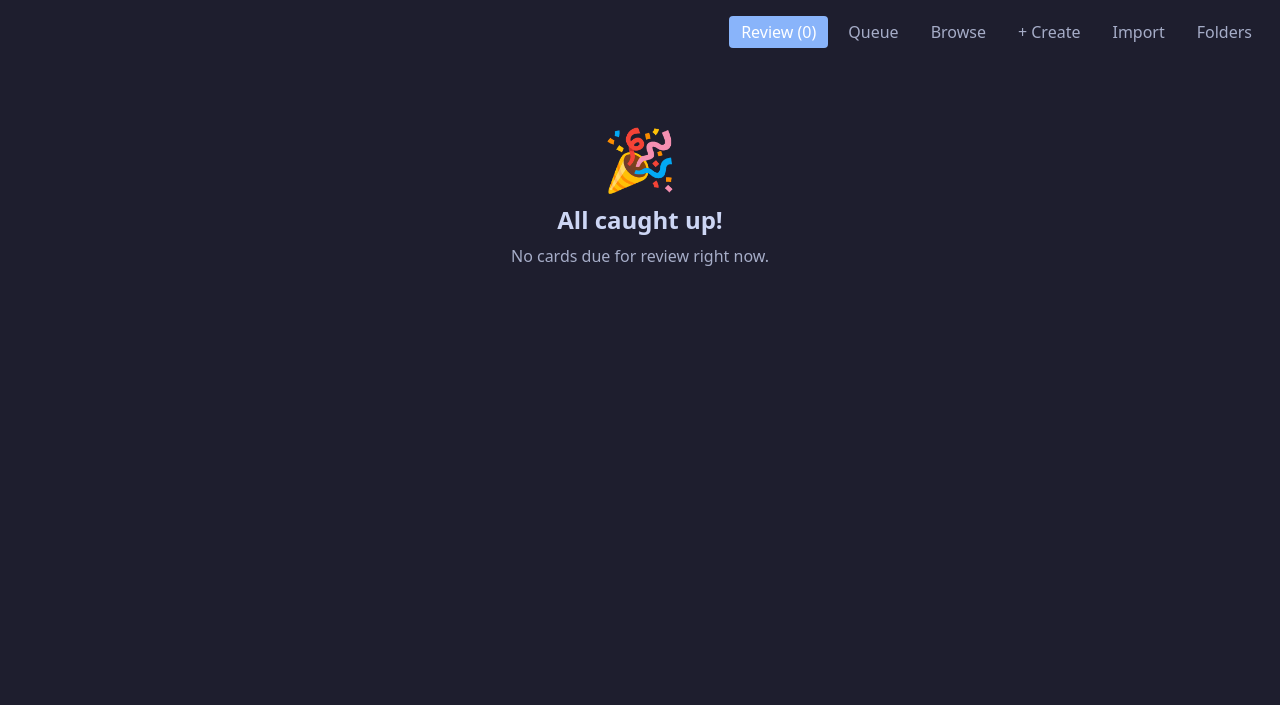
it: Learning › switches between modes
What coordinates should you click on to do the following:
click the button "Browse"
I would click on:
 (958, 32)
Its box is [919, 16, 998, 48].
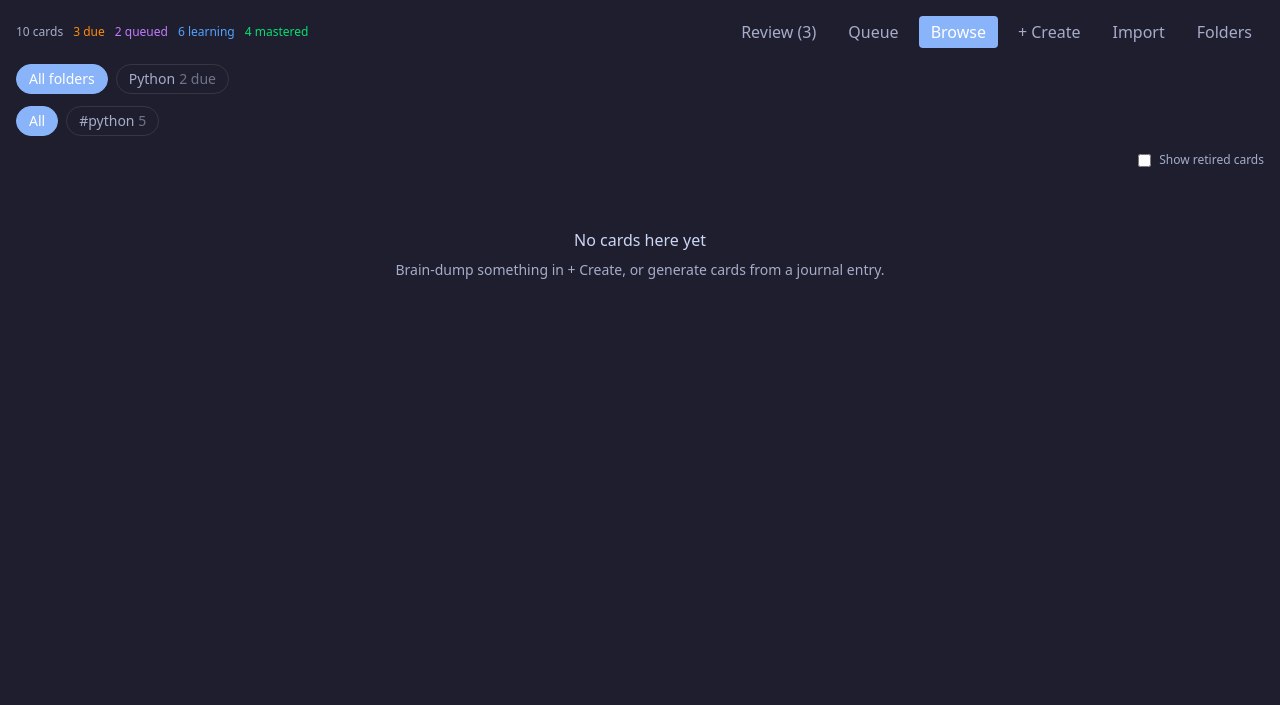
Expected: the text "No cards here yet" is shown, [574, 229, 706, 251]
What coordinates should you click on to do the following:
click the button "Queue"
I would click on:
 (873, 32)
Its box is [836, 16, 911, 48].
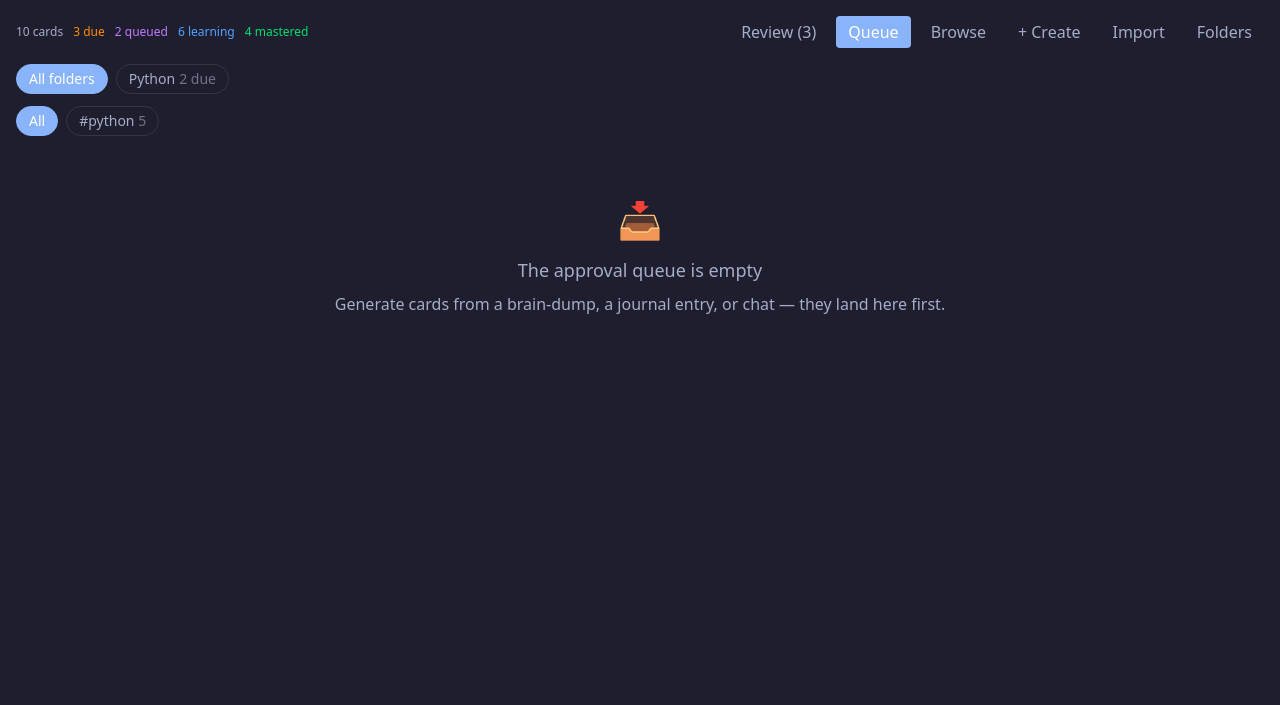
Expected: the text "The approval queue is empty" is shown, [518, 258, 762, 282]
What coordinates should you click on to do the following:
click the button "+ Create"
I would click on:
 (1049, 32)
Its box is [1006, 16, 1092, 48].
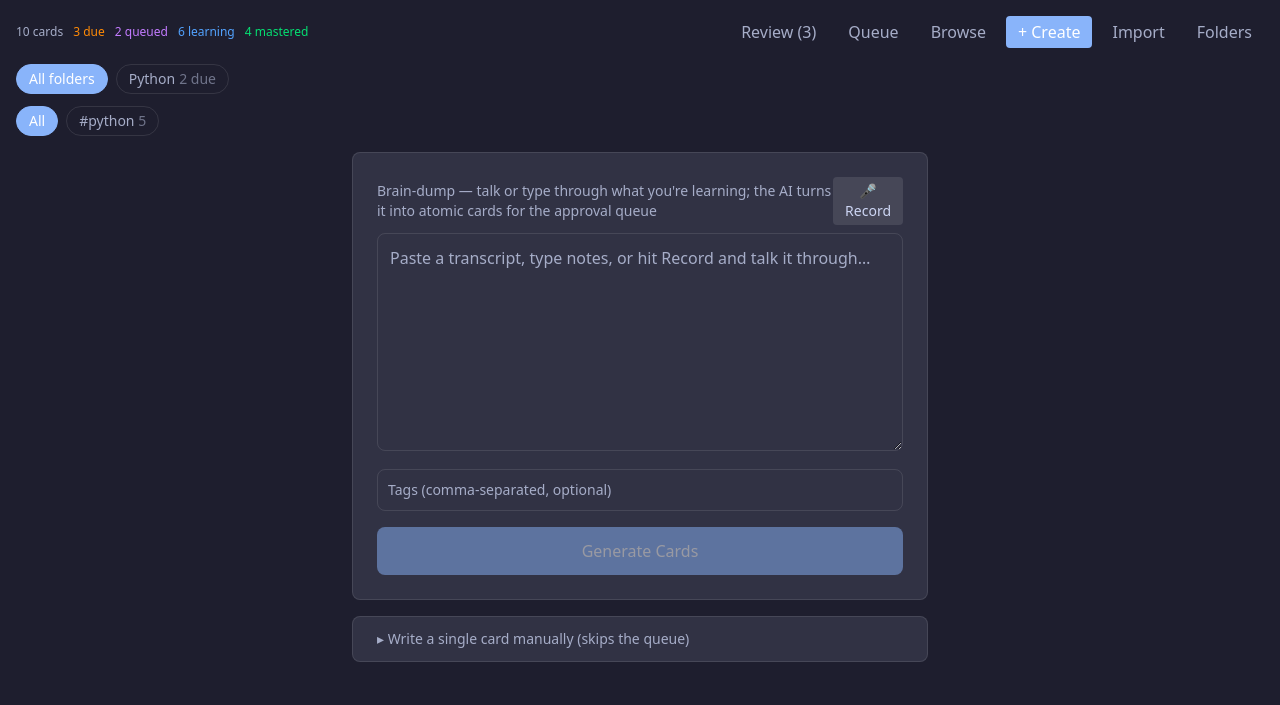
Expected: the button "Generate Cards" is shown, [377, 527, 903, 575]
What coordinates should you click on to do the following:
click the button "Import"
I would click on:
 (1139, 32)
Its box is [1100, 16, 1177, 48].
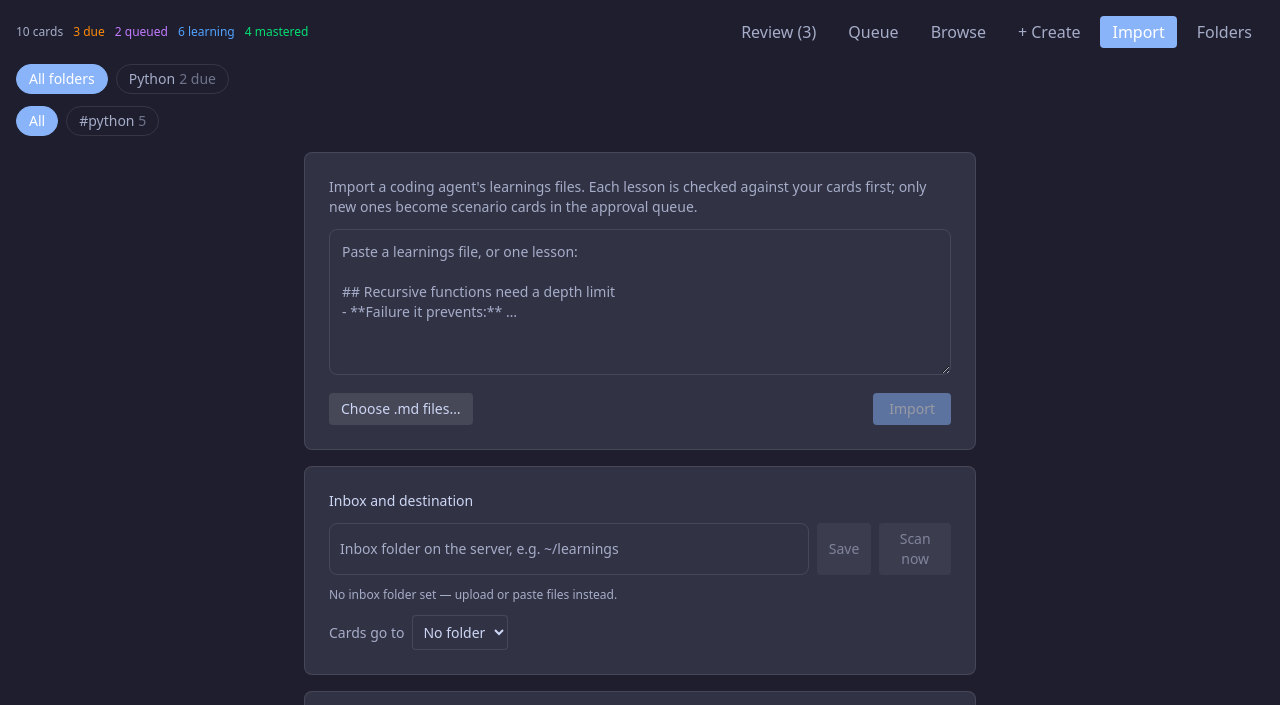
What coordinates should you click on to do the following:
click the button "Folders"
I would click on:
 (1224, 32)
Its box is [1185, 16, 1264, 48].
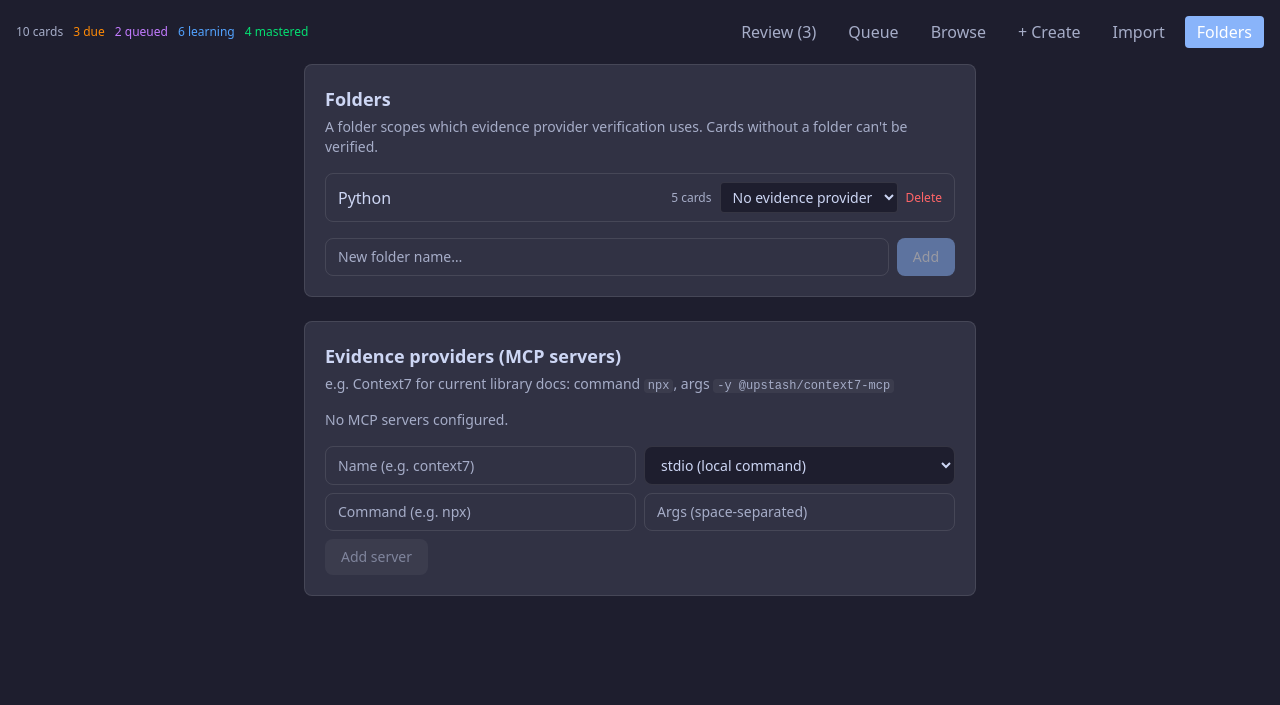
Expected: the heading "Evidence providers (MCP servers)" is shown, [325, 344, 621, 368]
